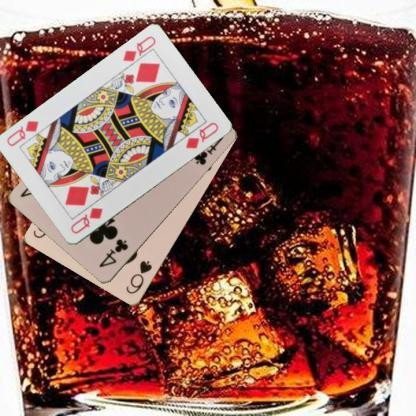4c: (96, 236, 130, 270)
6s: (123, 258, 154, 296)
Qd: (120, 34, 157, 72), (68, 205, 104, 236)
